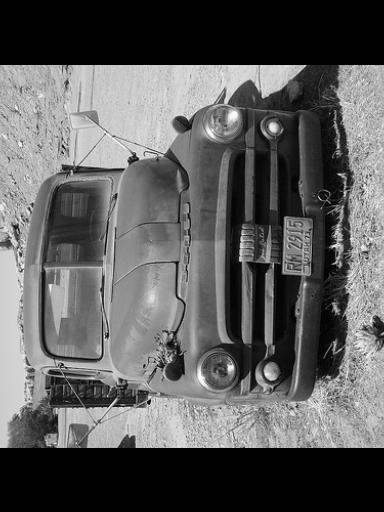Cheetah: (2, 88, 354, 420)
